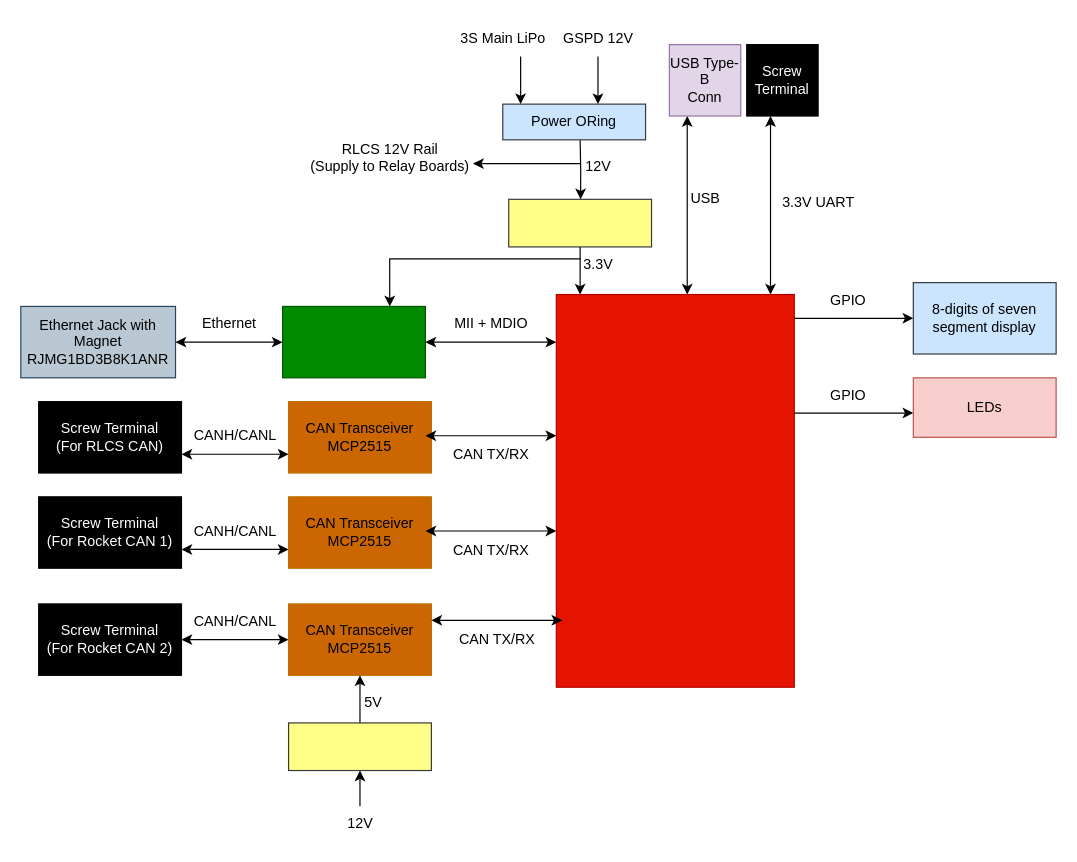
The diagram is 1077 pixels wide and 862 high, and some of its shapes have lost their labels. Here are the shapes that lost their labels. From the top down, the centre of each, then its label:
At (580,222): "12V -> 3V3 Buck".
At (353,341): "Ethernet PHY KSZ8001".
At (674,490): "Micro-Controller STM32H753ZIT6".
At (359,746): "12V -> 5V LDO".
